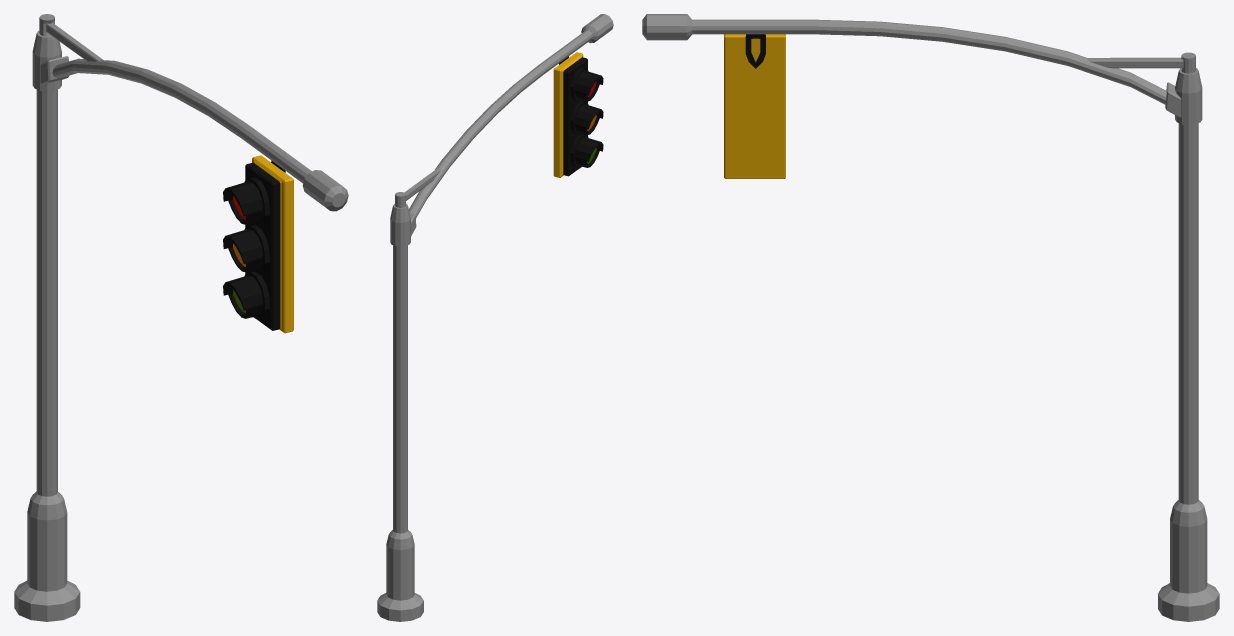
The model's file is TLight2.fbx.
3 views of the same model, side by side, from view 1: azimuth 30°, elevation 25°; view 2: azimuth 150°, elevation 25°; view 3: azimuth 270°, elevation 25° (orthographic). The views are drawn at different scales.
Visible parts, largest first — view 1: Traffic Lights2; view 2: Traffic Lights2; view 3: Traffic Lights2.
Part boxes in pixels (x1,y1,x2,y2): Traffic Lights2: (14,14,348,621); Traffic Lights2: (377,14,613,621); Traffic Lights2: (642,14,1219,621).
Size of the model in its own units: 42.68 by 337 by 297.
